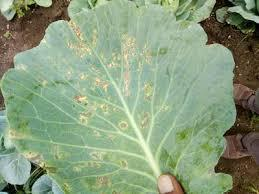Bok-Choy-Diseased: (15, 20, 209, 170)
